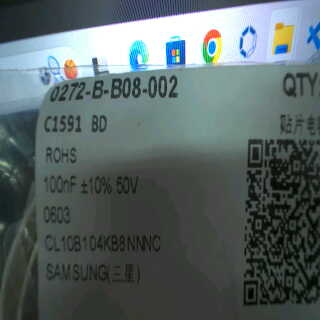100nF: (41, 172, 78, 196)
